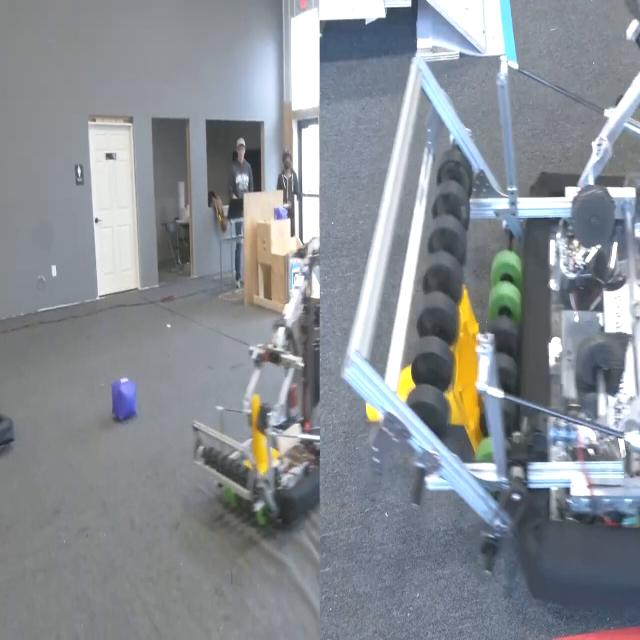frc_cone: (362, 294, 490, 454), (240, 392, 282, 486)
frc_cube: (105, 374, 140, 430), (273, 200, 289, 228)
